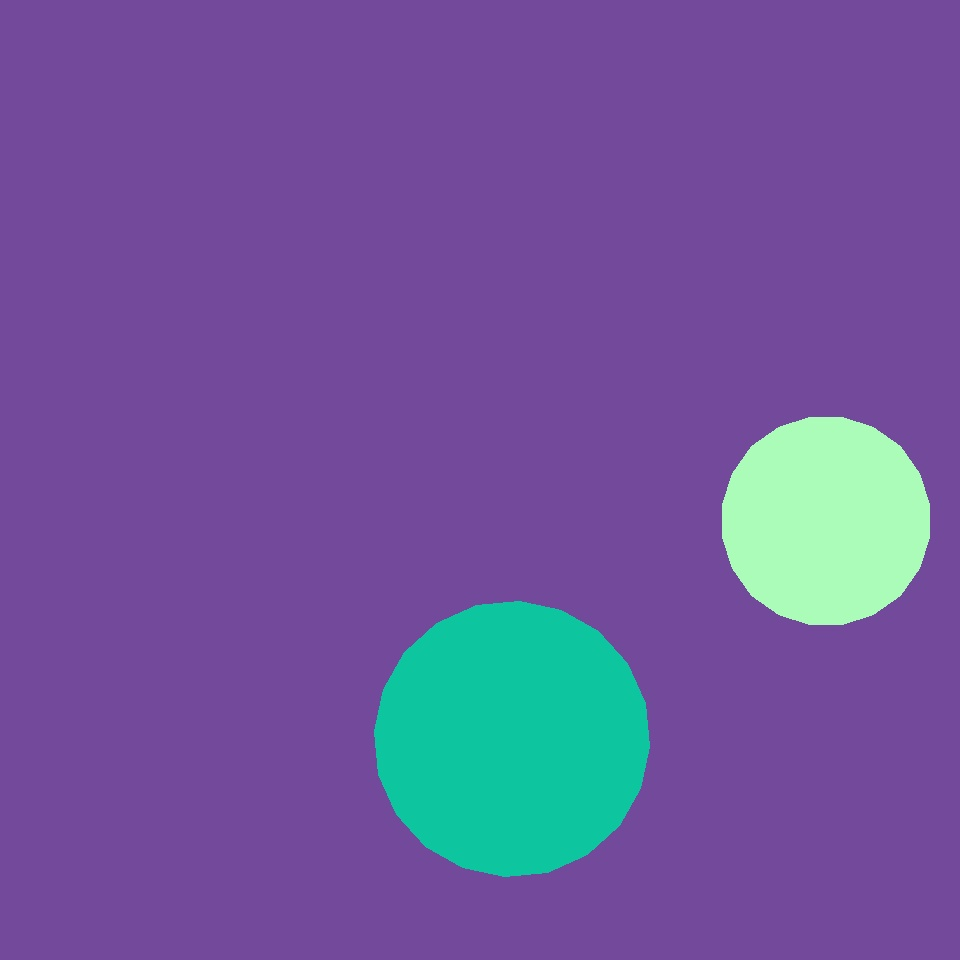circle: (273, 586, 426, 751), (314, 34, 412, 143)
square: (519, 85, 775, 341), (640, 352, 827, 539), (613, 396, 792, 575), (252, 22, 396, 166)
triangle: (374, 602, 650, 876), (723, 418, 930, 624)
